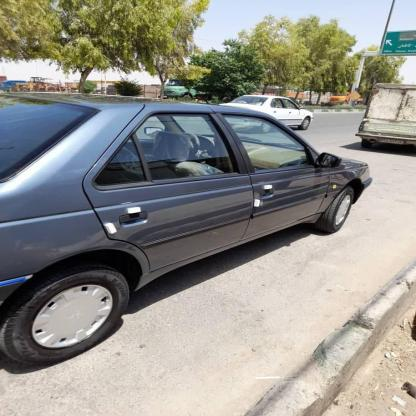Car: (0, 98, 372, 350), (353, 79, 416, 156), (228, 89, 326, 132)
